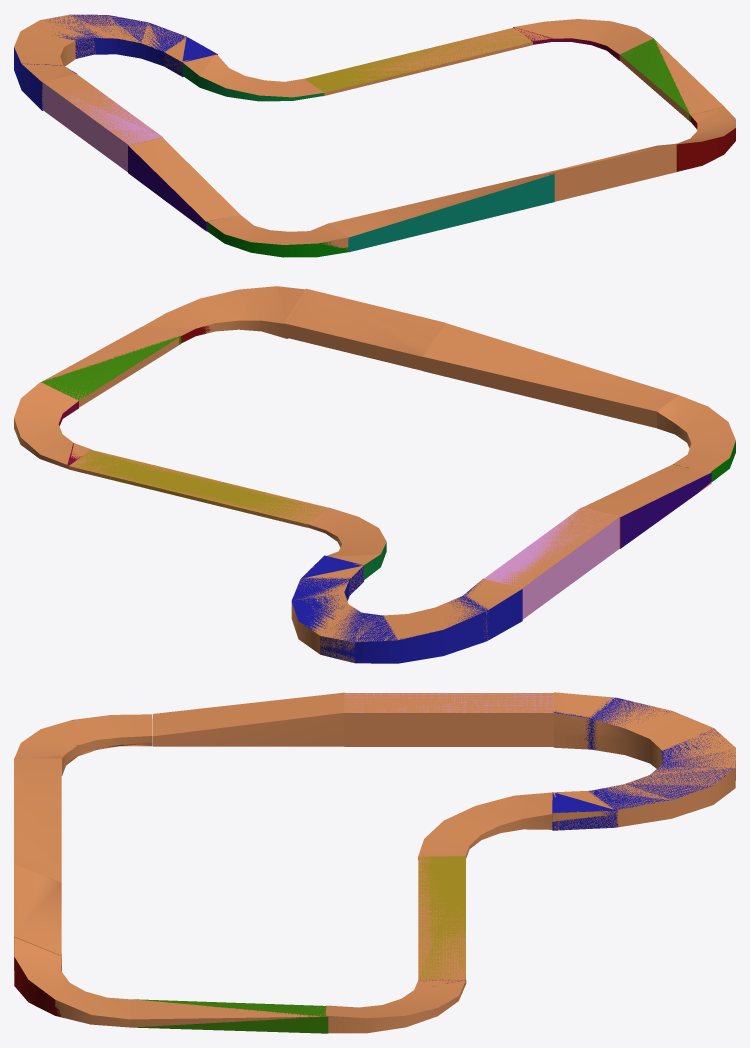
Rendered from Pista_carreras.obj.
The picture shows the model from 3 angles, top to bottom: view 1: azimuth 30°, elevation 25°; view 2: azimuth 150°, elevation 25°; view 3: azimuth 270°, elevation 25°; orthographic projection. The views are drawn at different scales.
Parts seen in each view (by area): view 1: Box002, Tube001, Box003, Box005, Box006, Box001, curva, Box004, curva2, curva3, curva004; view 2: Box002, Tube001, Box006, Box005, Box001, Box004; view 3: Box002, Tube001, Box006, Box001, Box005, curva2.
Part boxes in pixels (x1,y1,x2,y2): Box002: [14, 14, 735, 249]; Tube001: [14, 14, 217, 110]; Box003: [348, 174, 554, 252]; Box005: [42, 82, 162, 171]; Box006: [304, 28, 531, 92]; Box001: [620, 38, 723, 121]; curva: [207, 222, 348, 257]; Box004: [128, 145, 212, 231]; curva2: [676, 116, 735, 171]; curva3: [182, 62, 324, 101]; curva004: [513, 27, 619, 60]; Box002: [14, 286, 735, 662]; Tube001: [291, 555, 522, 663]; Box006: [69, 450, 326, 527]; Box005: [484, 507, 619, 619]; Box001: [41, 336, 181, 400]; Box004: [620, 472, 711, 548]; Box002: [14, 692, 735, 1033]; Tube001: [552, 697, 735, 830]; Box006: [418, 856, 465, 979]; Box001: [133, 999, 328, 1033]; Box005: [344, 693, 553, 712]; curva2: [14, 957, 61, 1016].
Size of the model in its own units: 306 by 16.35 by 303.
